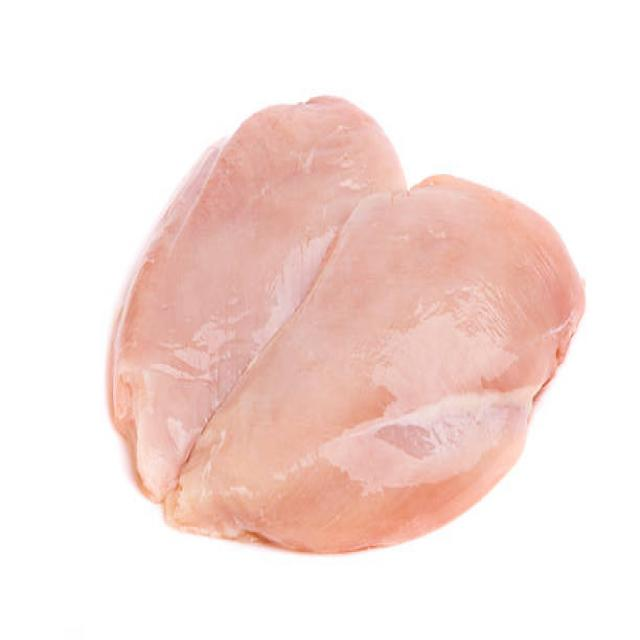Chicken: (100, 46, 595, 597)
